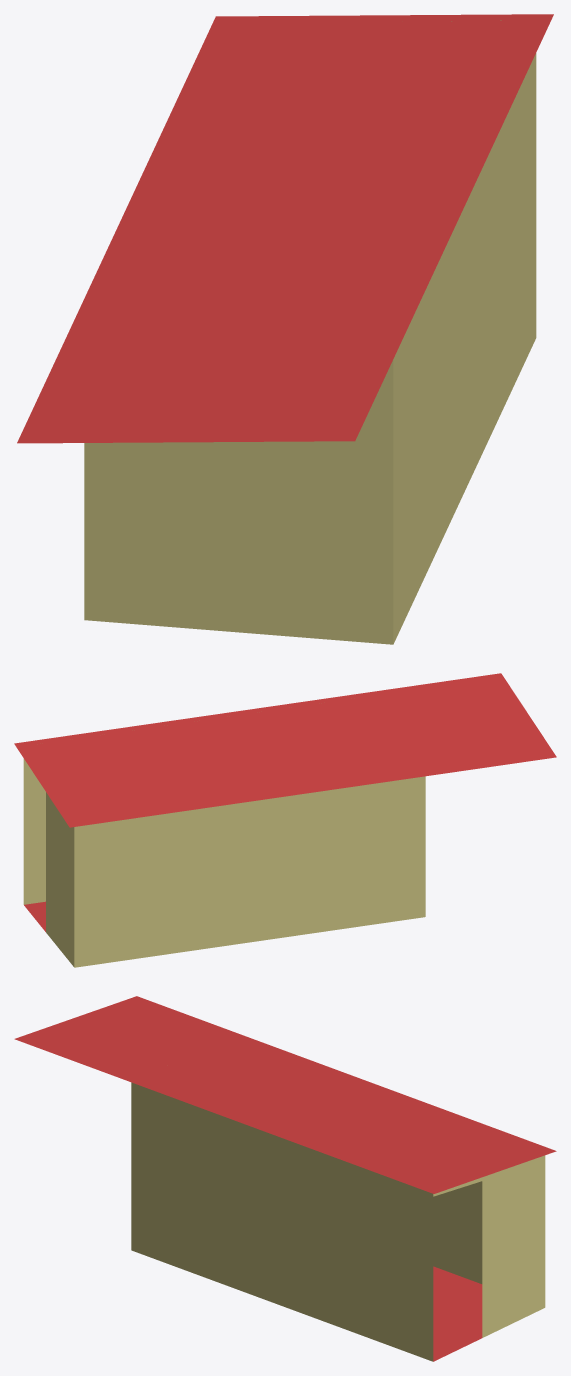
The picture shows the model from 3 angles, top to bottom: view 1: azimuth 30°, elevation 25°; view 2: azimuth 150°, elevation 25°; view 3: azimuth 270°, elevation 25°; orthographic projection. The views are drawn at different scales.
Bounding box in the file's own units: 15.42 × 16.5 × 5.79.
